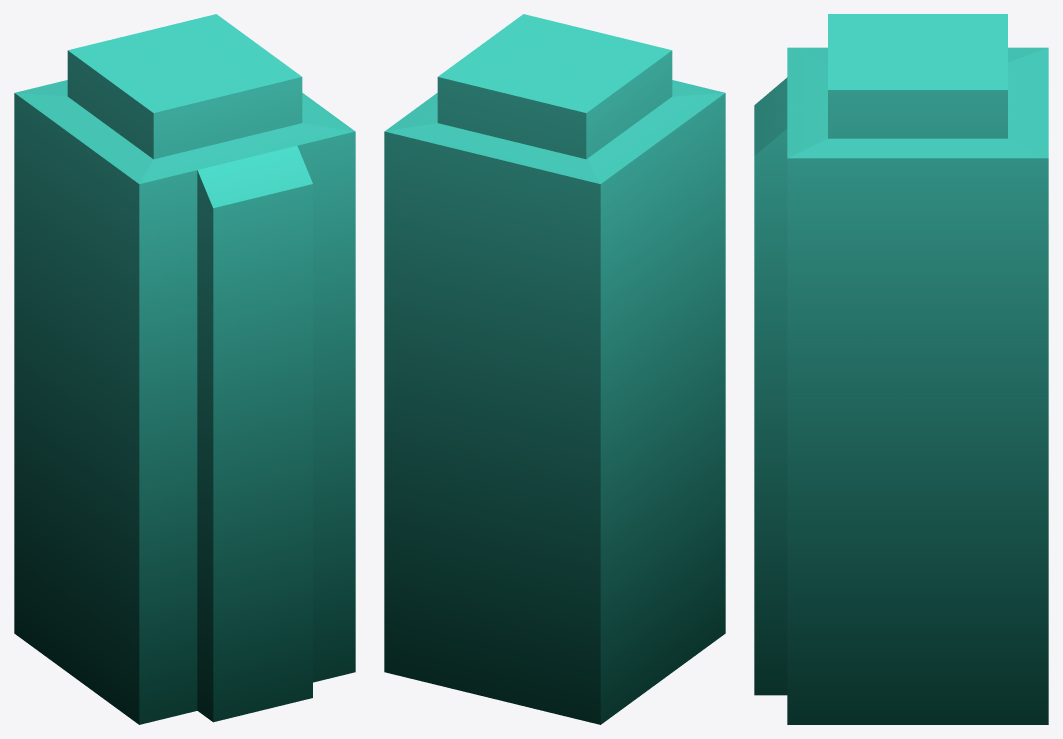
File: FBX_Building_006.fbx
3 renders of one model, left to right at view 1: azimuth 30°, elevation 25°; view 2: azimuth 150°, elevation 25°; view 3: azimuth 270°, elevation 25°, orthographic. The views are drawn at different scales.
Visible parts, largest first — view 1: Cube.002, Cube.004; view 2: Cube.002; view 3: Cube.002, Cube.004.
Part boxes in pixels (x1,y1,x2,y2): Cube.002: (14,14,355,724); Cube.004: (223,152,287,715); Cube.002: (384,14,725,724); Cube.002: (754,14,1048,724); Cube.004: (754,90,787,142).
Bounding box in the file's own units: 322 × 839 × 363.
Materials: 1 (1 with a texture image).
